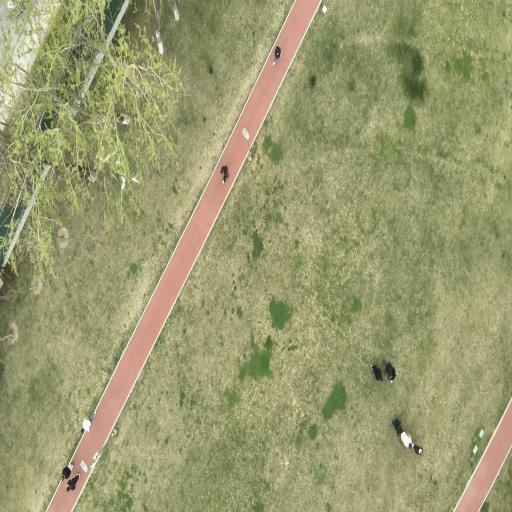person: (392, 419, 413, 448), (383, 360, 396, 382), (82, 412, 95, 433), (67, 473, 80, 491), (62, 462, 73, 480), (371, 365, 383, 381), (392, 419, 403, 435), (401, 432, 412, 448), (273, 46, 281, 66), (81, 418, 91, 433), (221, 166, 228, 183), (414, 444, 423, 455)
